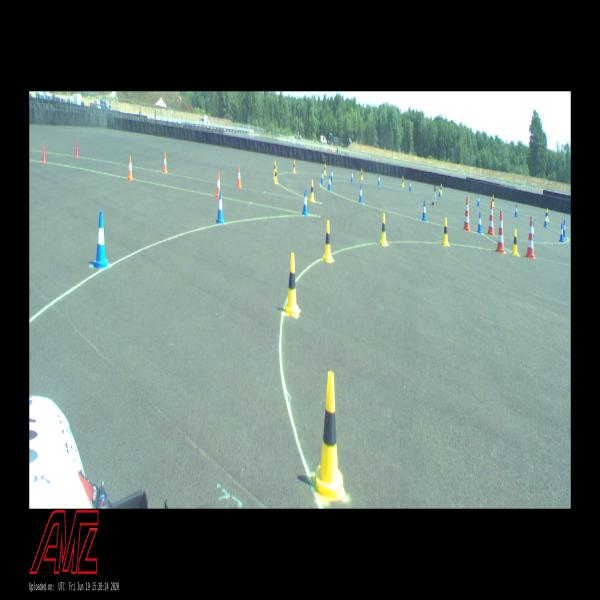blue_cone: (92, 211, 110, 269), (216, 189, 225, 224), (302, 189, 308, 215), (477, 212, 482, 233), (358, 184, 363, 203), (422, 200, 426, 221), (560, 224, 564, 242), (328, 174, 332, 191), (544, 212, 548, 228), (320, 169, 323, 184), (515, 204, 518, 218), (533, 221, 535, 242), (477, 194, 480, 206), (564, 220, 566, 237), (331, 169, 333, 182), (351, 170, 353, 182), (439, 185, 441, 197), (378, 174, 380, 185), (409, 180, 411, 190)
large_orange_cone: (496, 210, 506, 254), (526, 216, 536, 259), (463, 197, 471, 231), (488, 202, 495, 236)
orange_cone: (215, 173, 220, 198), (128, 157, 133, 180), (236, 168, 241, 189), (163, 152, 168, 172)
unknown_cone: (42, 142, 46, 163), (76, 140, 78, 157)
yellow_cone: (312, 372, 346, 501), (284, 253, 300, 318), (324, 221, 334, 262), (380, 213, 388, 246), (442, 218, 450, 246), (511, 230, 518, 256), (310, 180, 315, 202), (274, 167, 278, 184), (293, 160, 296, 173), (492, 195, 495, 207), (546, 209, 549, 221), (360, 168, 363, 179), (440, 184, 443, 194), (274, 161, 276, 174), (324, 163, 326, 175), (402, 176, 404, 187)
